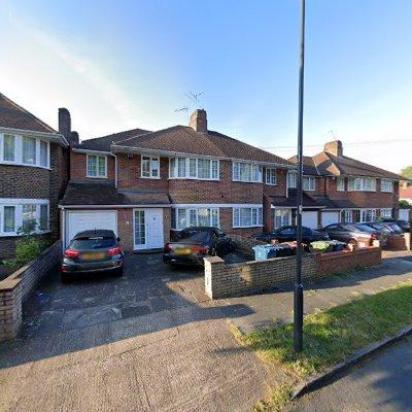stationary-car-offstreet: (61, 228, 125, 284), (162, 225, 236, 272), (246, 224, 332, 252), (316, 221, 390, 251), (363, 221, 401, 237), (383, 219, 409, 232)
